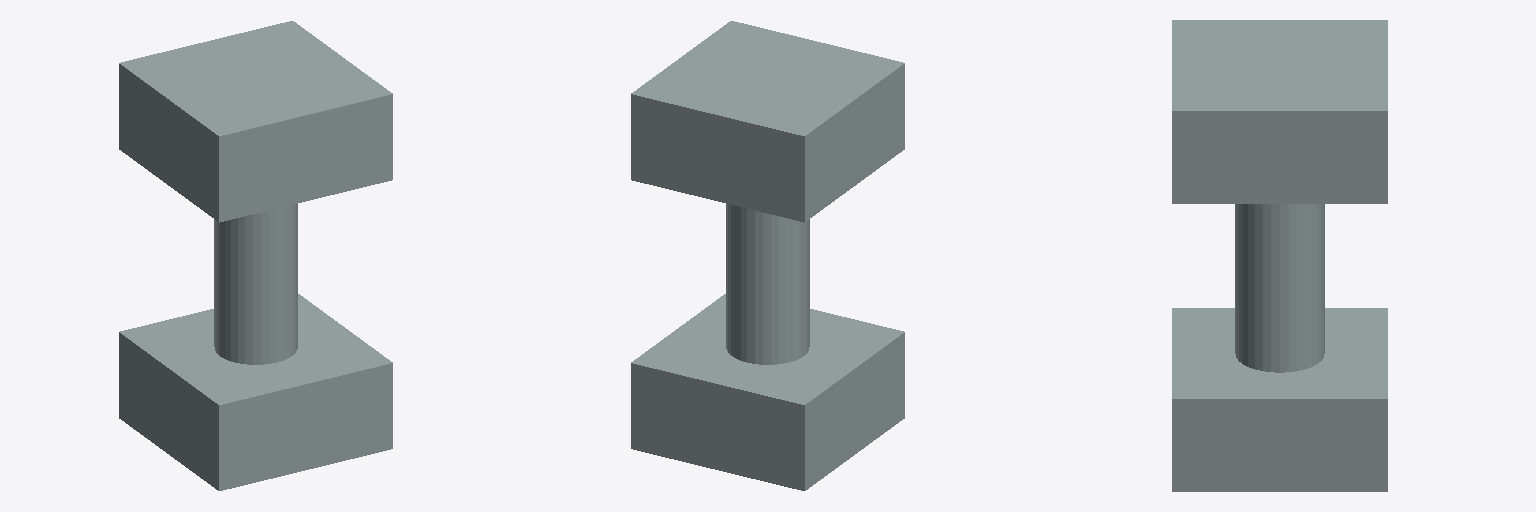
The robot description file, URDF, robot "dumbbell":
<robot name="dumbbell">
  <link name="base_link">
    <collision>
      <origin xyz="0 0 0.0285" />
      <geometry>
        <box size="0.1206 0.1206 0.0570" />
      </geometry>
    </collision>
    <visual>
      <origin xyz="0 0 0.0285" />
      <material name="c">
        <color rgba="0.65 0.7 0.7 1.0" />
      </material>
      <geometry>
        <box size="0.1206 0.1206 0.0570" />
      </geometry>
    </visual>
    <collision>
      <origin xyz="0.0 0.0 0.1175" />
      <geometry>
        <cylinder length="0.121" radius="0.025" />
      </geometry>
    </collision>
    <visual>
      <origin xyz="0.0 0.0 0.1175" />
      <material name="c">
        <color rgba="0.65 0.7 0.7 1.0" />
      </material>
      <geometry>
        <cylinder length="0.121" radius="0.025" />
      </geometry>
    </visual>
    <collision>
      <origin xyz="0 0 0.2065" />
      <geometry>
        <box size="0.1206 0.1206 0.0570" />
      </geometry>
    </collision>
    <visual>
      <origin xyz="0 0 0.2065" />
      <material name="c">
        <color rgba="0.65 0.7 0.7 1.0" />
      </material>
      <geometry>
        <box size="0.1206 0.1206 0.0570" />
      </geometry>
    </visual>
  </link>
</robot>

--- Facts derived from the render (not from the file) ---
Views: 3 orthographic renders of the robot side by side, from view 1: azimuth 30°, elevation 25°; view 2: azimuth 150°, elevation 25°; view 3: azimuth 270°, elevation 25°.
Model dumbbell with 1 links and 0 joints (none), rooted at base_link, posed every joint at zero.
Visible links, largest first — view 1: base_link; view 2: base_link; view 3: base_link.
Link boxes in pixels (x1=…): base_link: x1=119, y1=21, x2=392, y2=490; base_link: x1=631, y1=21, x2=904, y2=490; base_link: x1=1172, y1=20, x2=1387, y2=491.
Bounding box of the posed robot: 0.1206 × 0.1206 × 0.235 m (x, y, z).
Geometry: primitives only (box / cylinder / sphere), no mesh files.